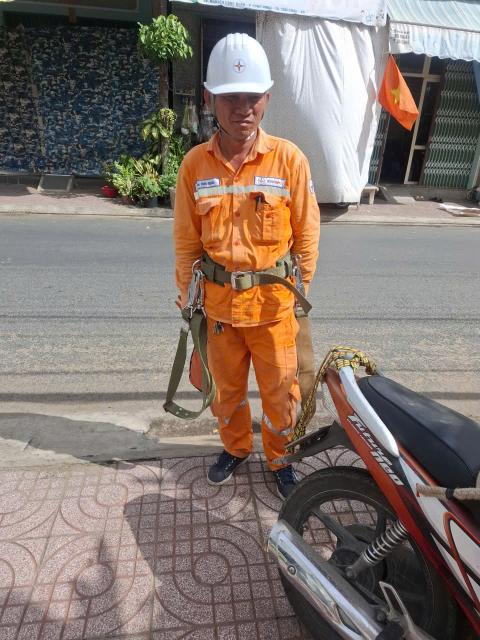harness: (186, 242, 308, 303)
helmet: (201, 18, 286, 114)
shoes: (197, 439, 251, 501), (264, 455, 297, 501)
